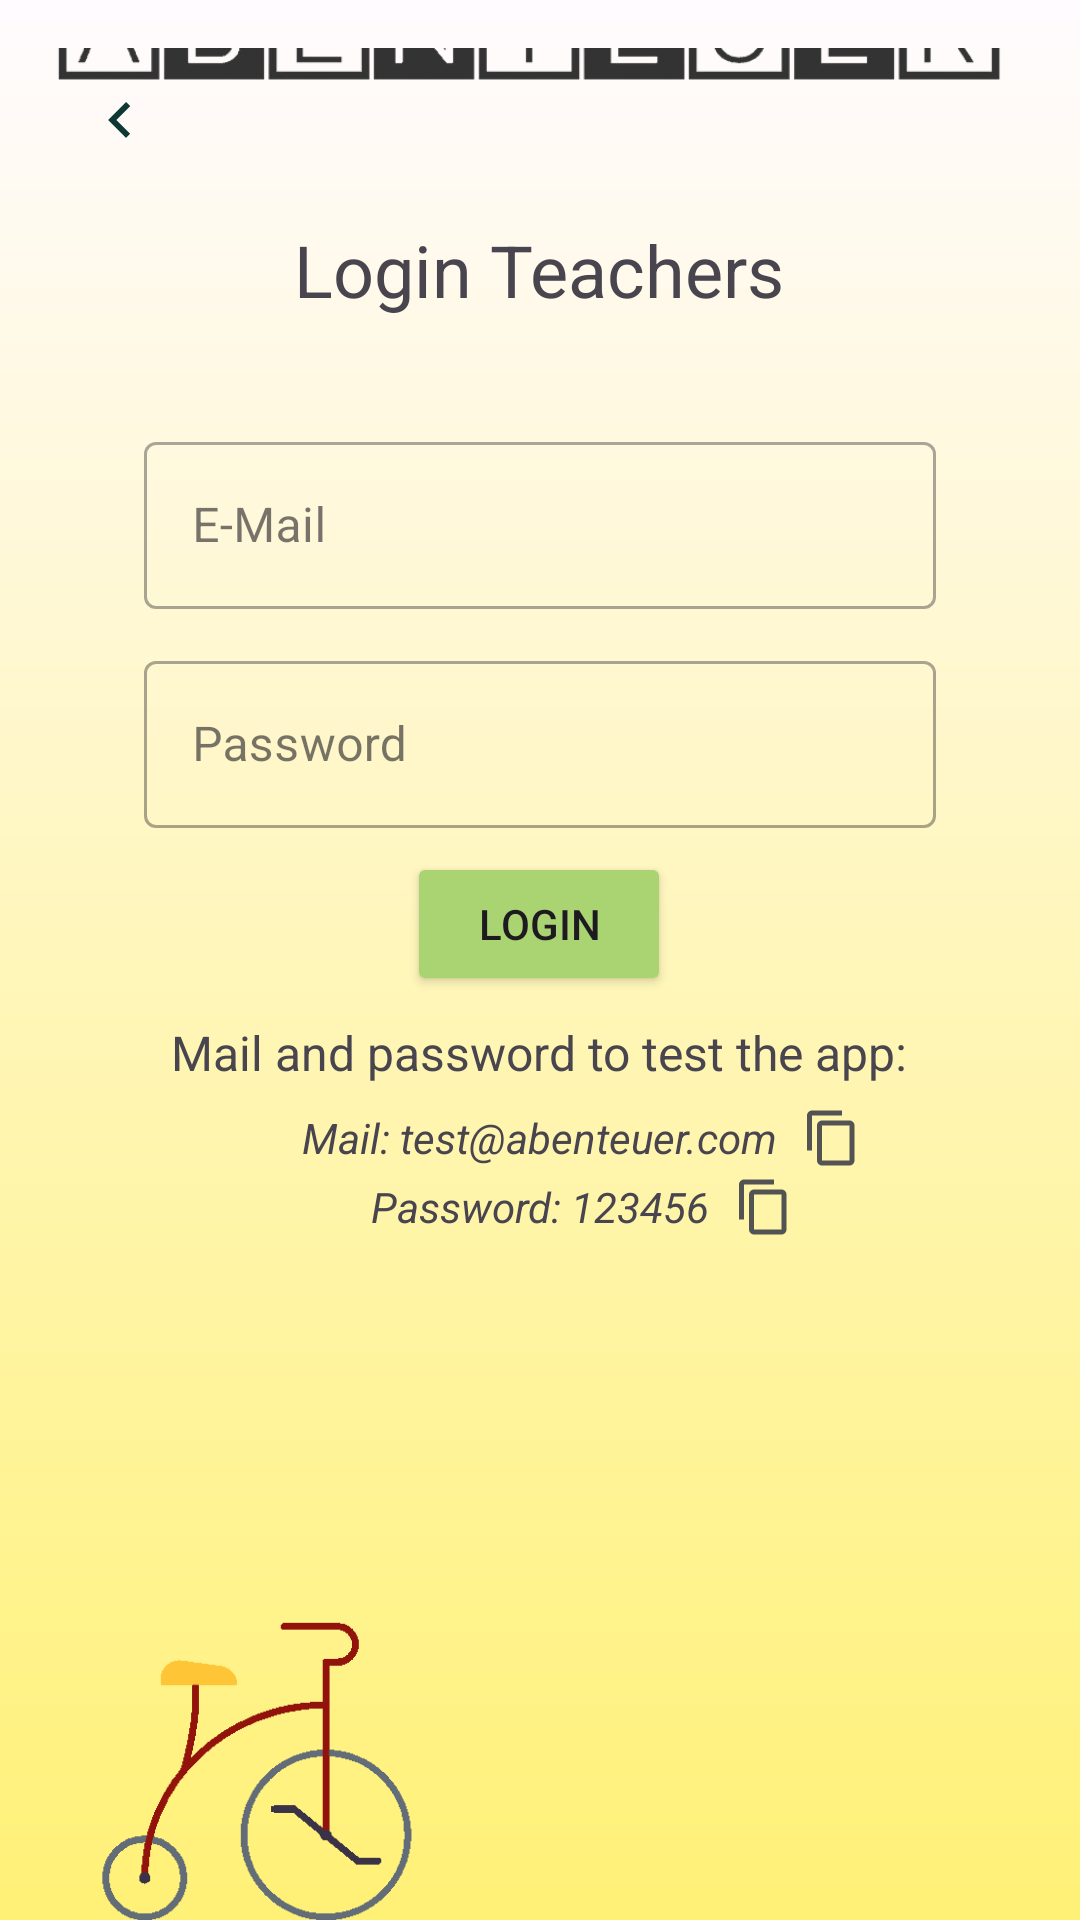

Icon bounding boxes for this 1080x1920 phone screenshot, format (x1, y1, x2, y2):
arrow left: (108, 102, 130, 138)
